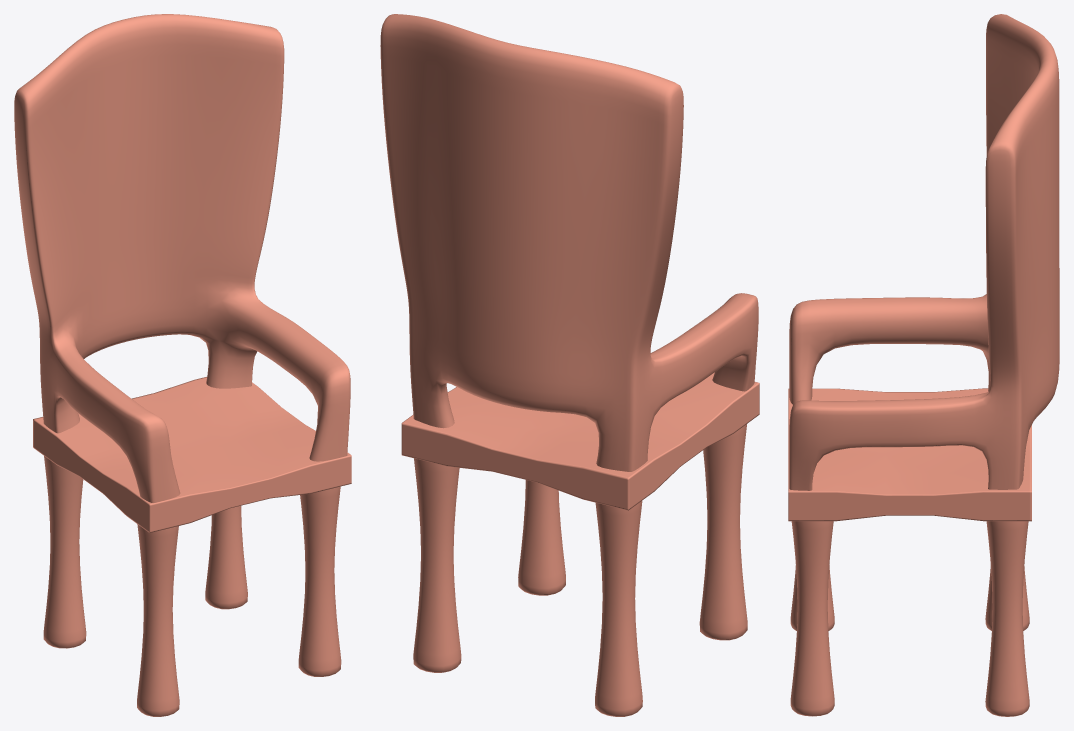
3 views of the same model, side by side, from view 1: azimuth 30°, elevation 25°; view 2: azimuth 150°, elevation 25°; view 3: azimuth 270°, elevation 25° (orthographic). The views are drawn at different scales.
Parts seen in each view (by area): view 1: Object_2; view 2: Object_2; view 3: Object_2.
Part boxes in pixels (x1,y1,x2,y2): Object_2: (14, 14, 351, 716); Object_2: (380, 14, 759, 716); Object_2: (788, 14, 1059, 716).
Size of the model in its own units: 1.19 by 2.56 by 1.03.
